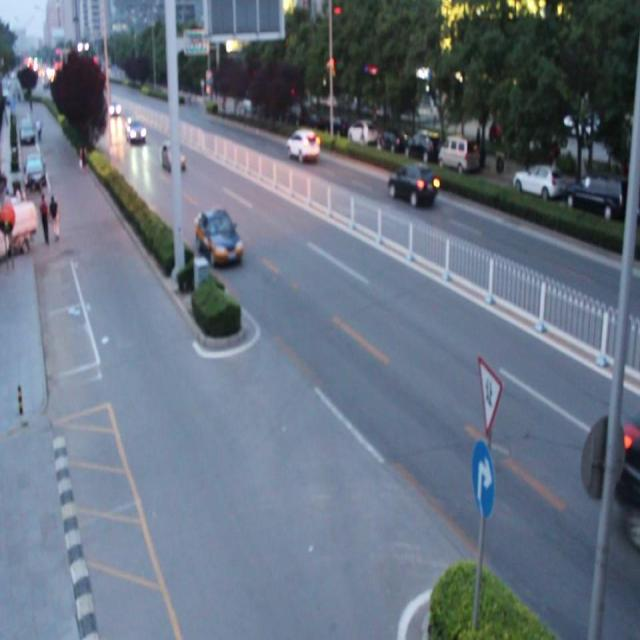car: (616, 403, 640, 553), (192, 204, 242, 270), (388, 162, 438, 204), (286, 127, 320, 163), (161, 143, 185, 172)
